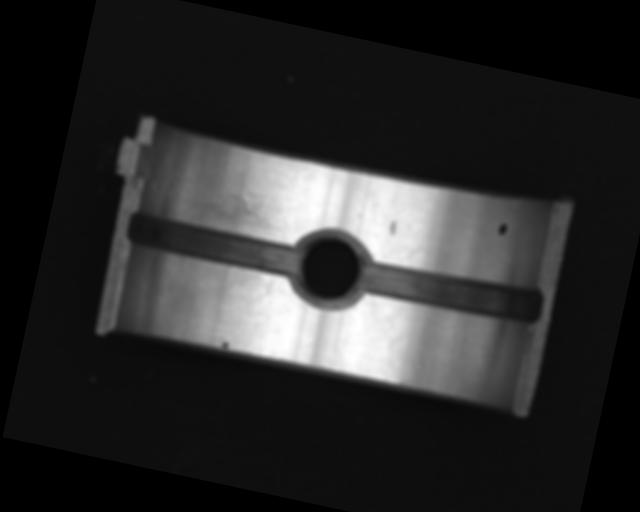blot: (497, 222, 508, 238), (218, 339, 229, 350)
bruise: (387, 219, 398, 237)
gap: (355, 251, 546, 330), (124, 208, 305, 281)
hole: (286, 221, 375, 316)
scratch: (179, 182, 296, 240)
